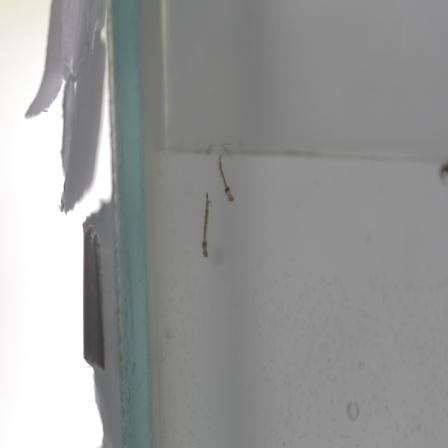Jentik-Nyamuk: (216, 154, 239, 203), (197, 188, 212, 259)
